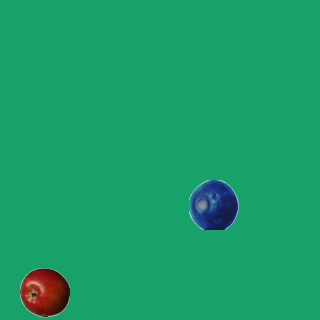Apple Braeburn: (19, 267, 69, 317)
Huckleberry: (188, 179, 238, 229)
